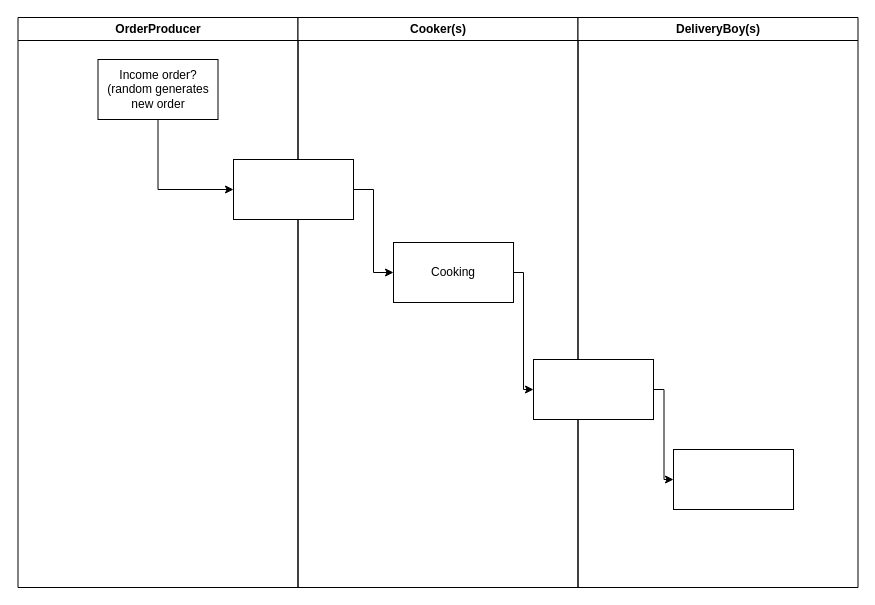
This 875x605 diagram has some shape labels left out. Each missing label, with the centre of its shape:
"Delivering" belongs at pixel 733 479.
"OrderQueue" belongs at pixel 293 189.
"Warehouse" belongs at pixel 593 389.
